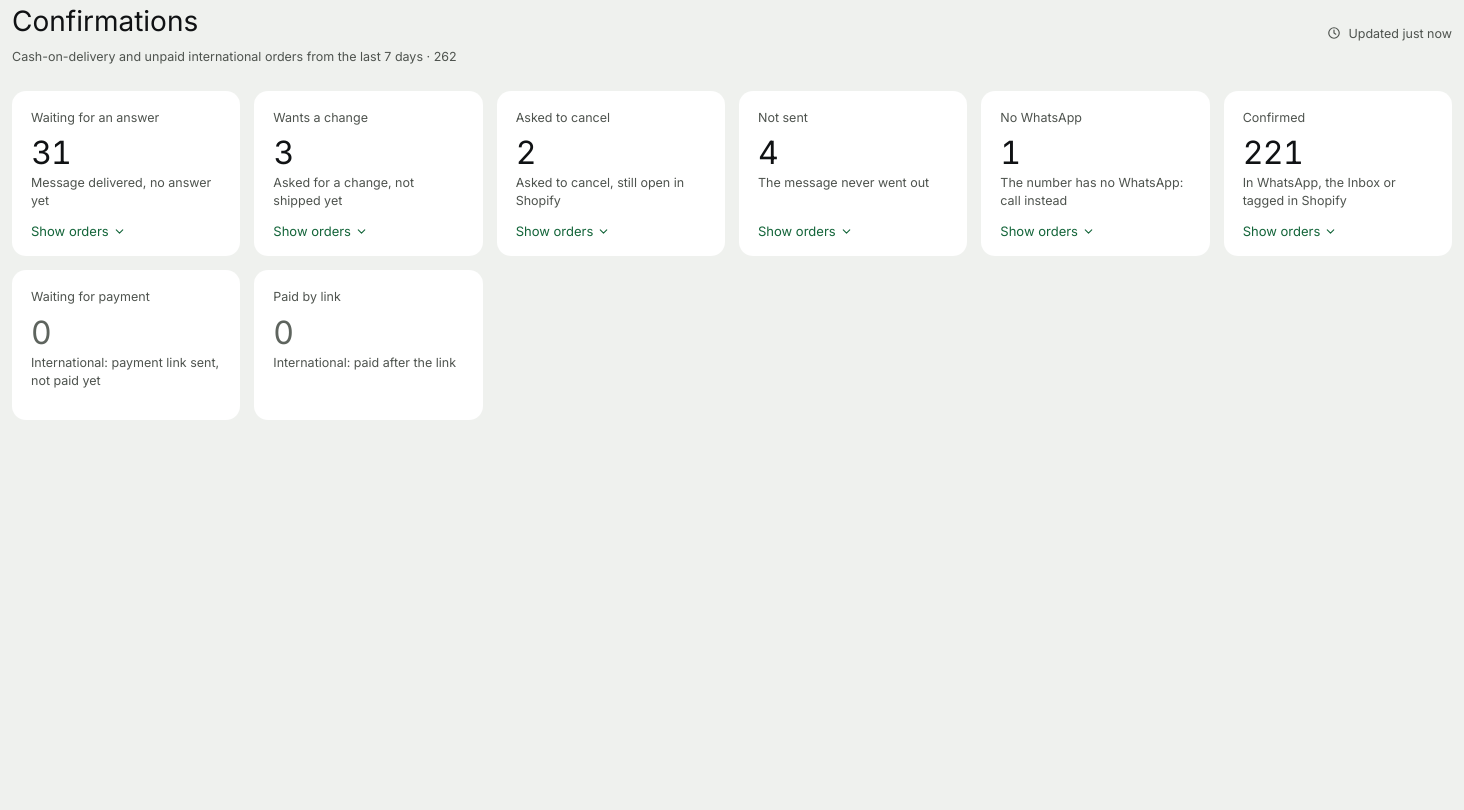
it: Inbox → Confirmations (ADR 0059) › opens Not sent, with why, and the one action each order can take
The image size is (1464, 810).
What coordinates should you click on to do the following:
click the button "Not sent 4 The message never went out Show orders"
I would click on:
 (853, 174)
Its box is [739,91,967,256].
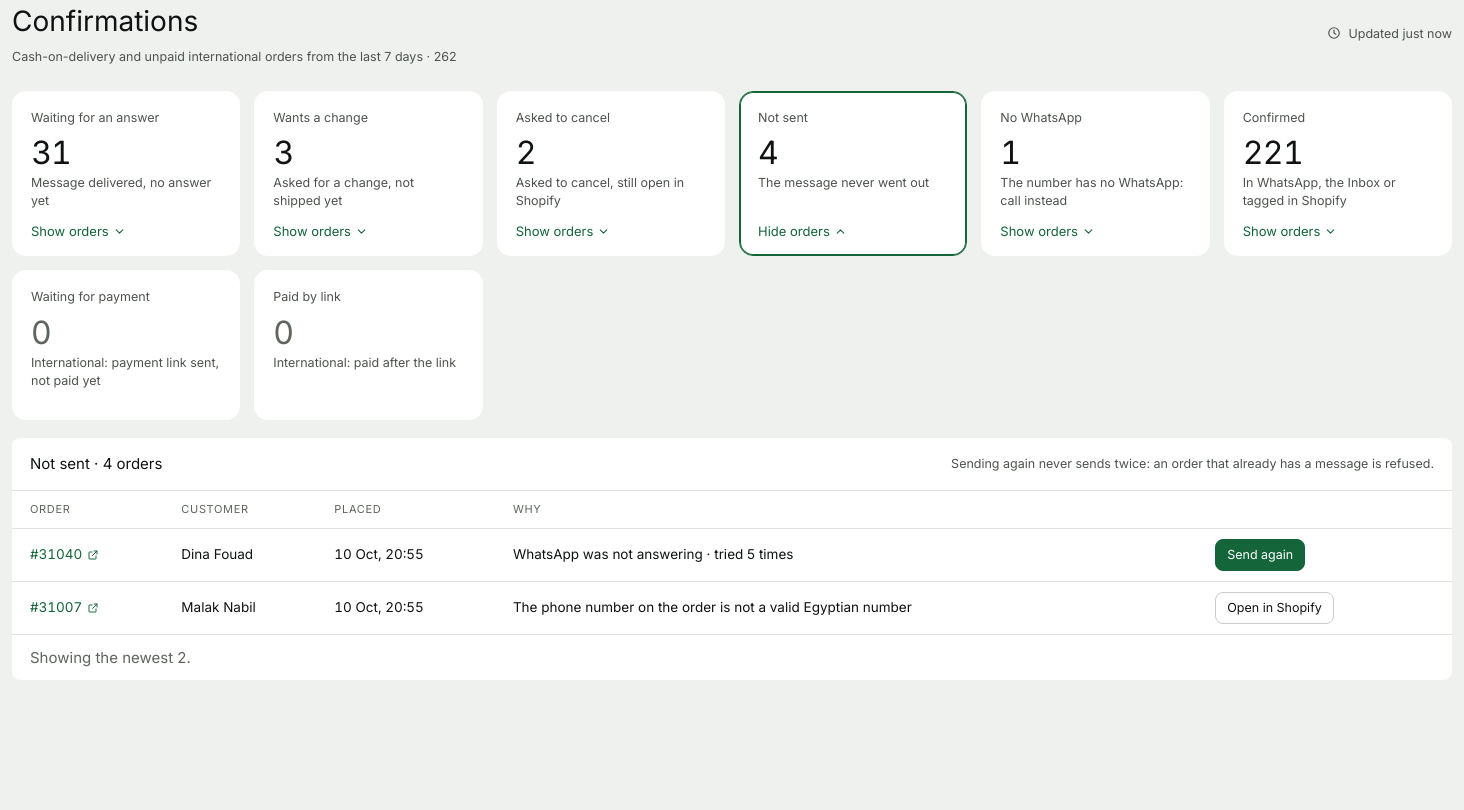
Check: the heading "Not sent · 4 orders" is shown, box [30,452,162,476]
Check: the text "Sending again never sends twice" is shown, box [951,456,1434,471]
Check: the button "Send again" is shown, box [1215,539,1305,571]
